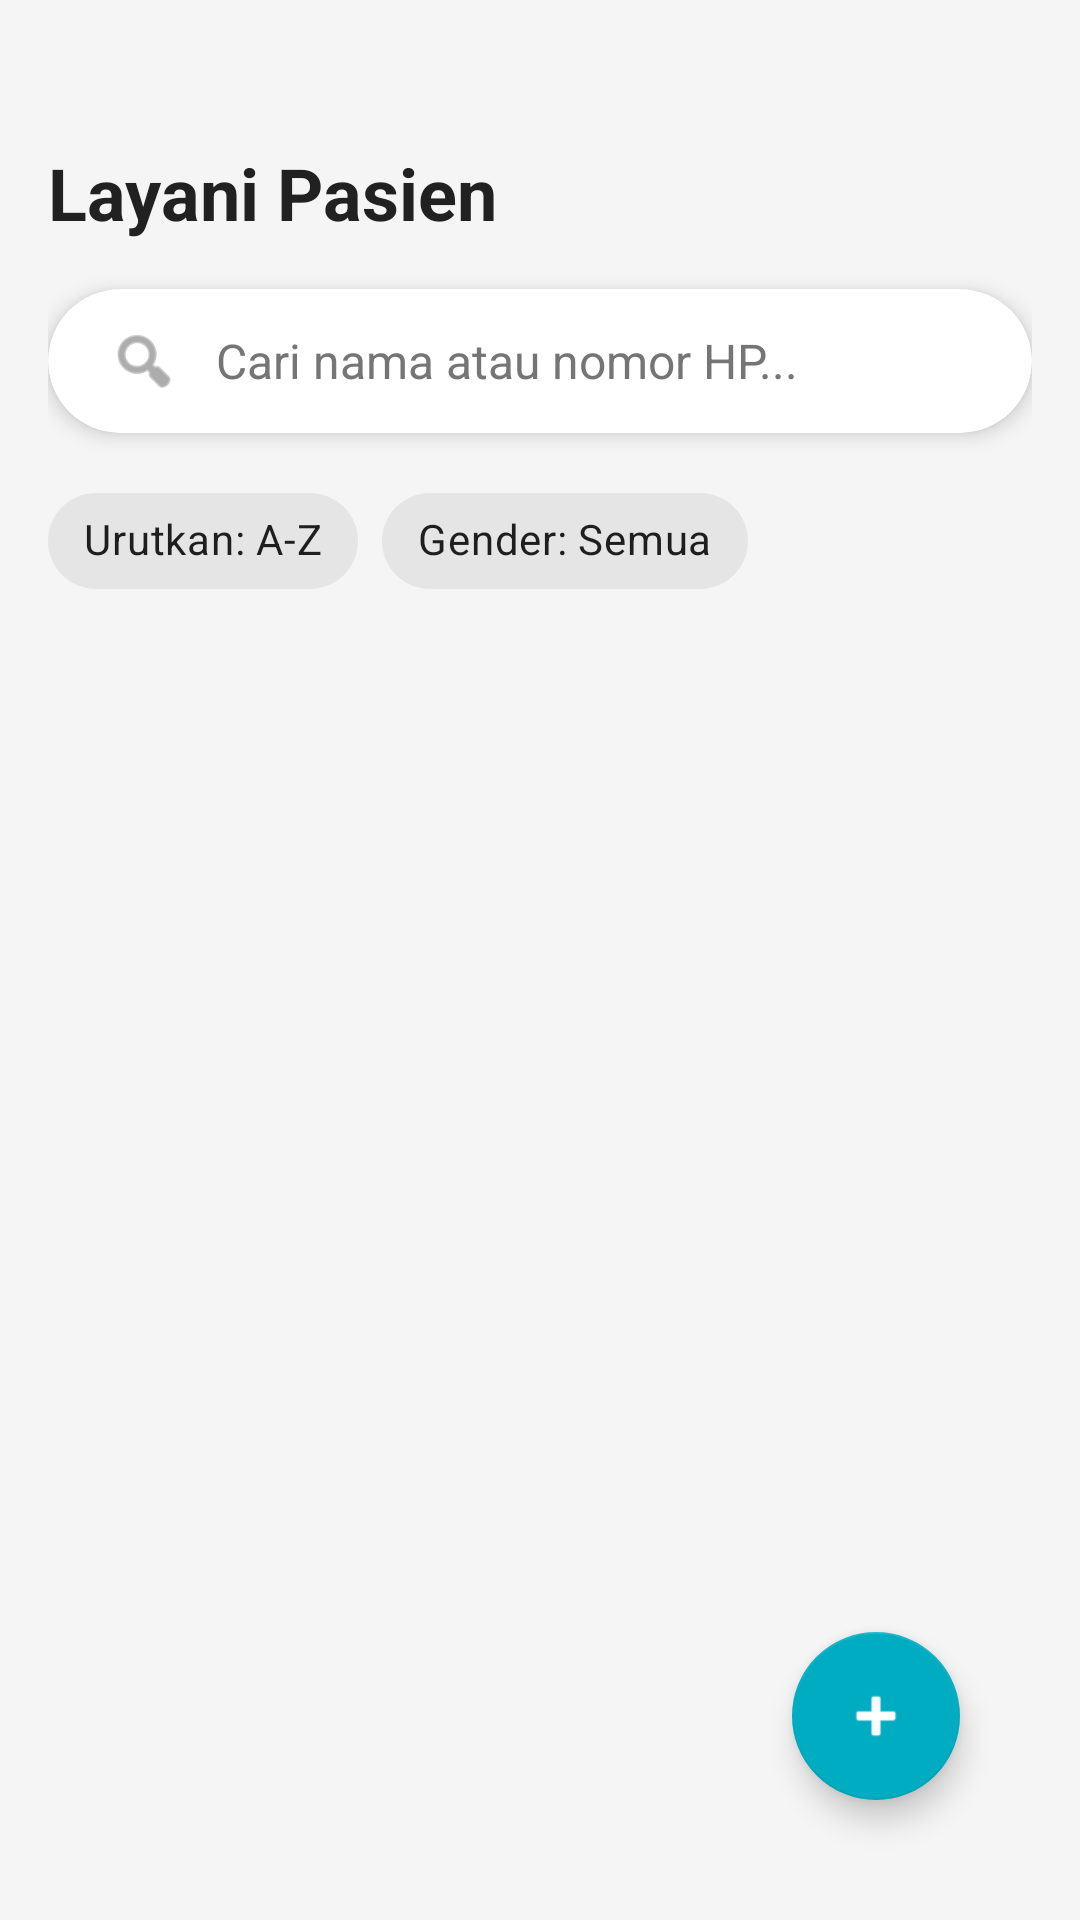

Named icons in this screenshot (1080px×1920px) and their centers, (x=x, y=y):
search: (x=144, y=361)
Tambah Pasien: (x=876, y=1716)
